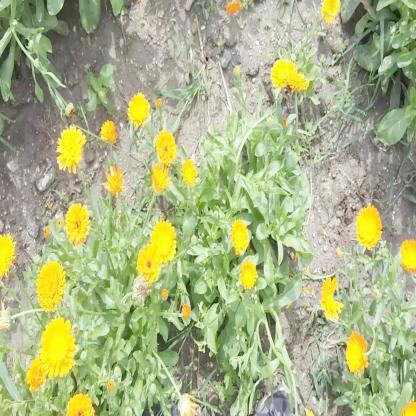marigold: (41, 318, 76, 376), (37, 261, 64, 313), (56, 126, 83, 169), (357, 206, 382, 248), (151, 220, 175, 261), (64, 204, 87, 246), (272, 57, 301, 88), (348, 332, 368, 373), (138, 248, 160, 285), (126, 92, 148, 124), (233, 221, 250, 256), (66, 394, 93, 416), (0, 233, 13, 277), (239, 261, 257, 292), (400, 241, 416, 274), (180, 157, 196, 187)
